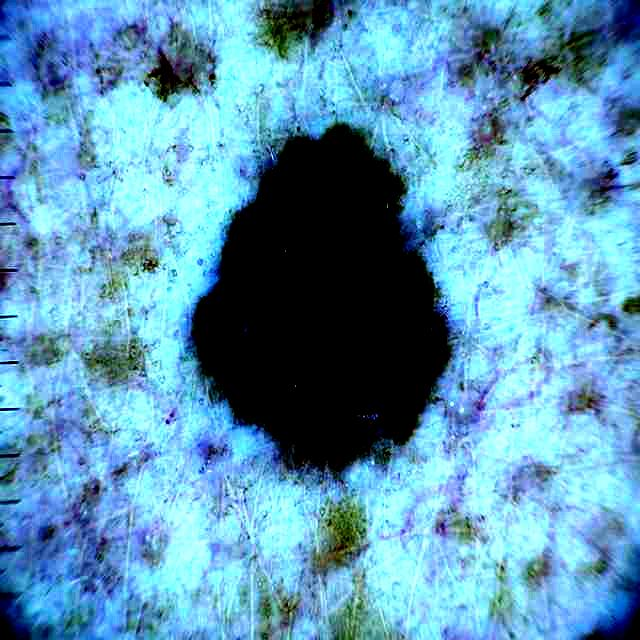MEL: (202, 129, 444, 456)
